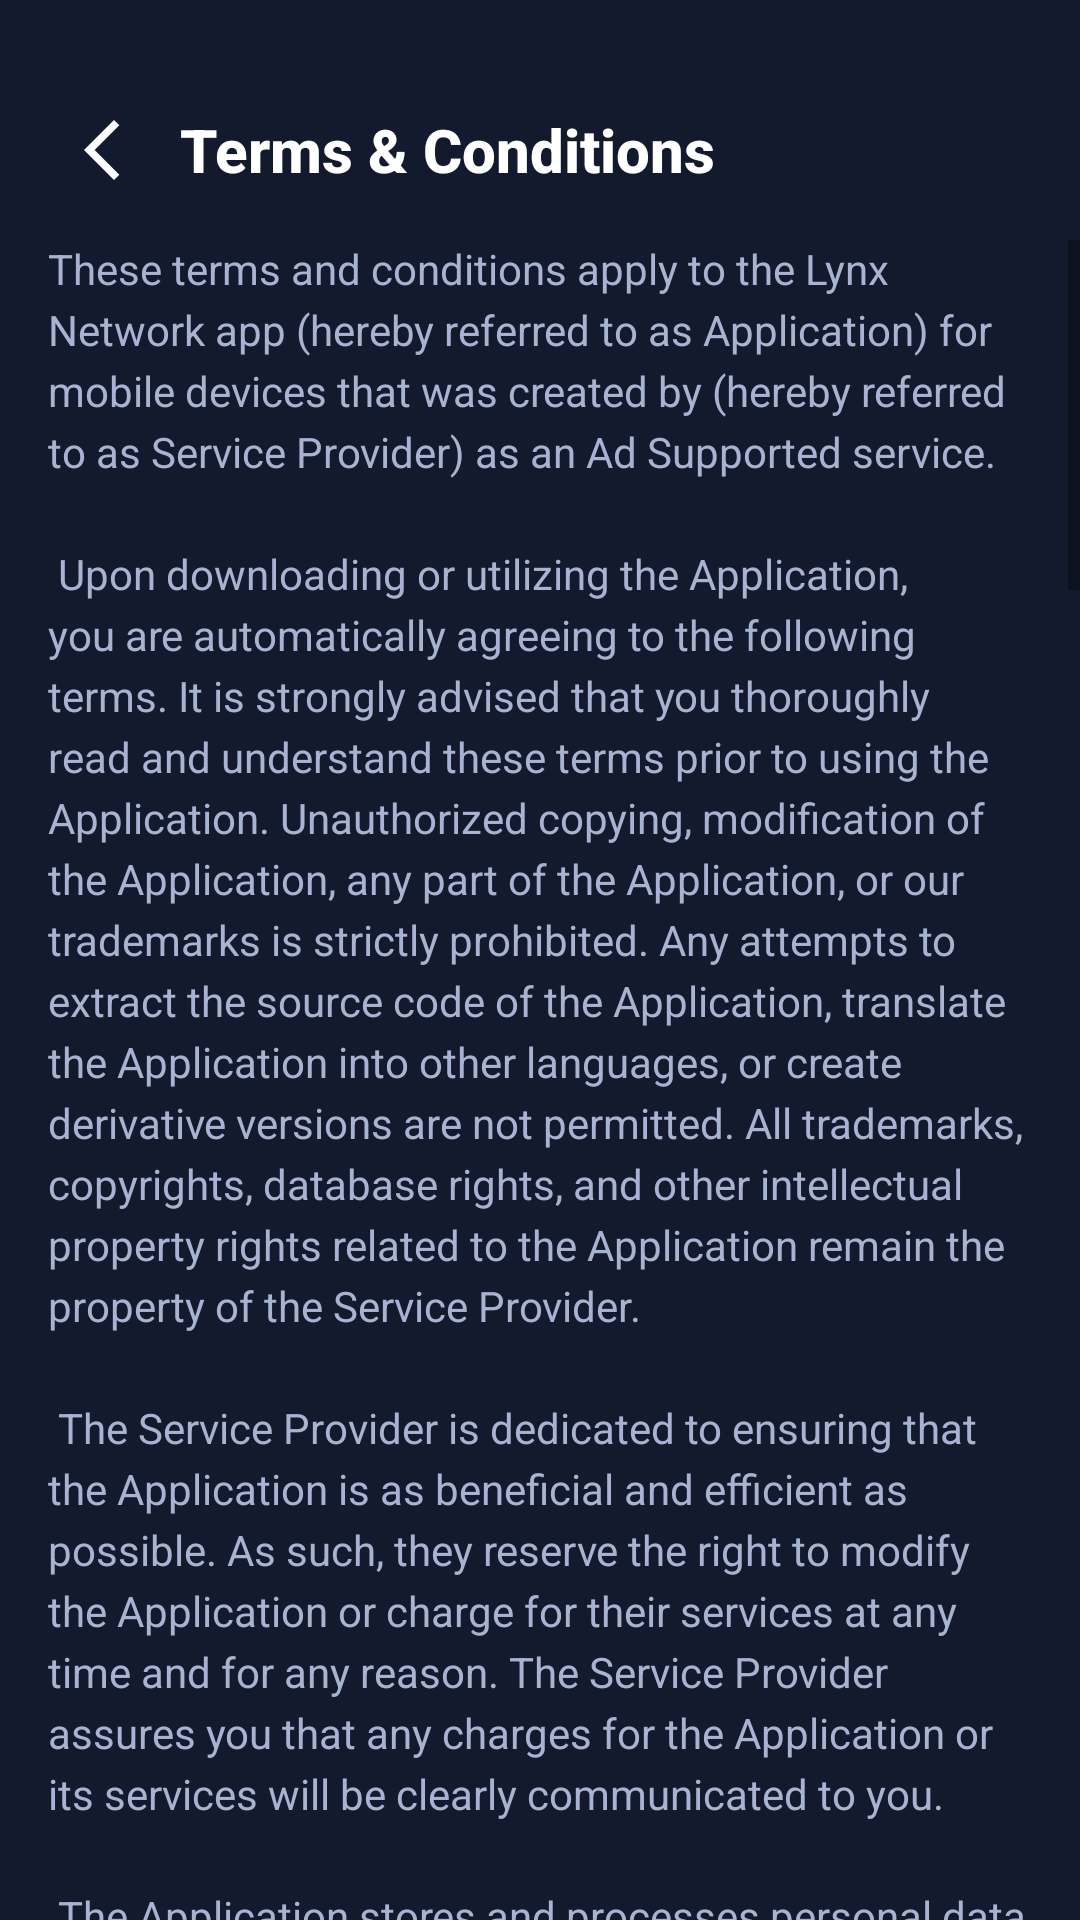

Icon bounding boxes for this 1080px x 1920px phone screenshot, format rect(x1, y1, x2, y2):
Back: rect(84, 120, 119, 180)
